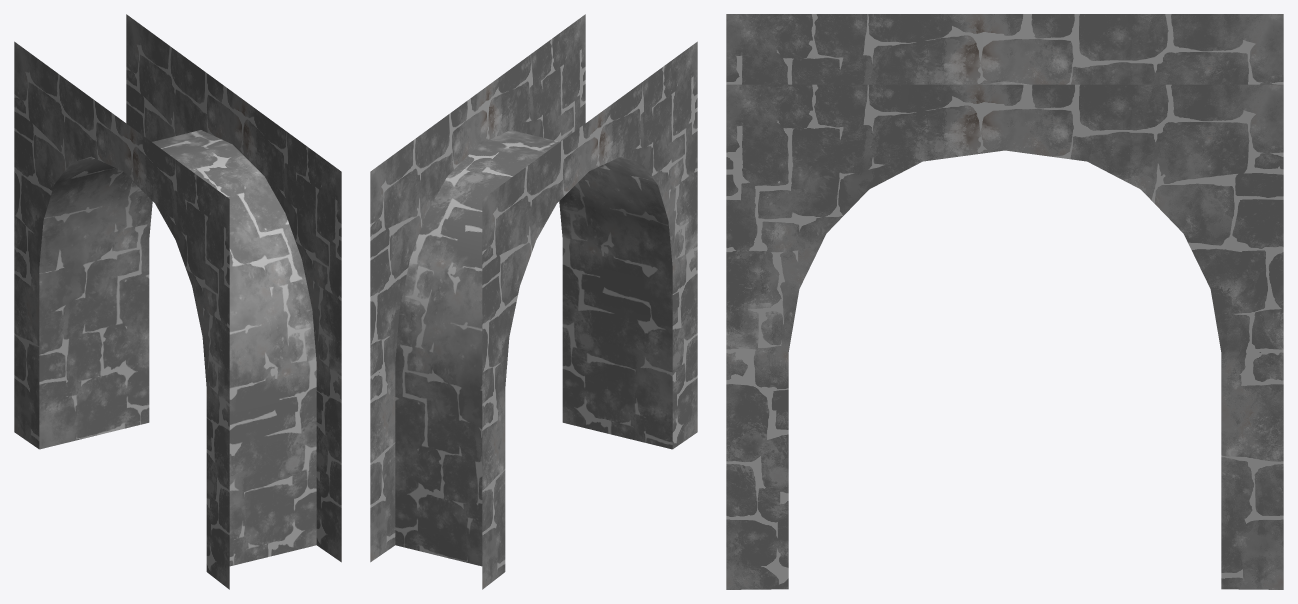
File: Door_Frame_02.fbx
3 renders of one model, left to right at view 1: azimuth 30°, elevation 25°; view 2: azimuth 150°, elevation 25°; view 3: azimuth 270°, elevation 25°, orthographic. The views are drawn at different scales.
Parts seen in each view (by area): view 1: Door_Frame_02; view 2: Door_Frame_02; view 3: Door_Frame_02.
Boxes of the visible parts, <box> form: Door_Frame_02: <box>14,14,341,589</box>; Door_Frame_02: <box>370,14,697,589</box>; Door_Frame_02: <box>726,14,1283,589</box>.
Bounding box in the file's own units: 1.5 × 5 × 5.
